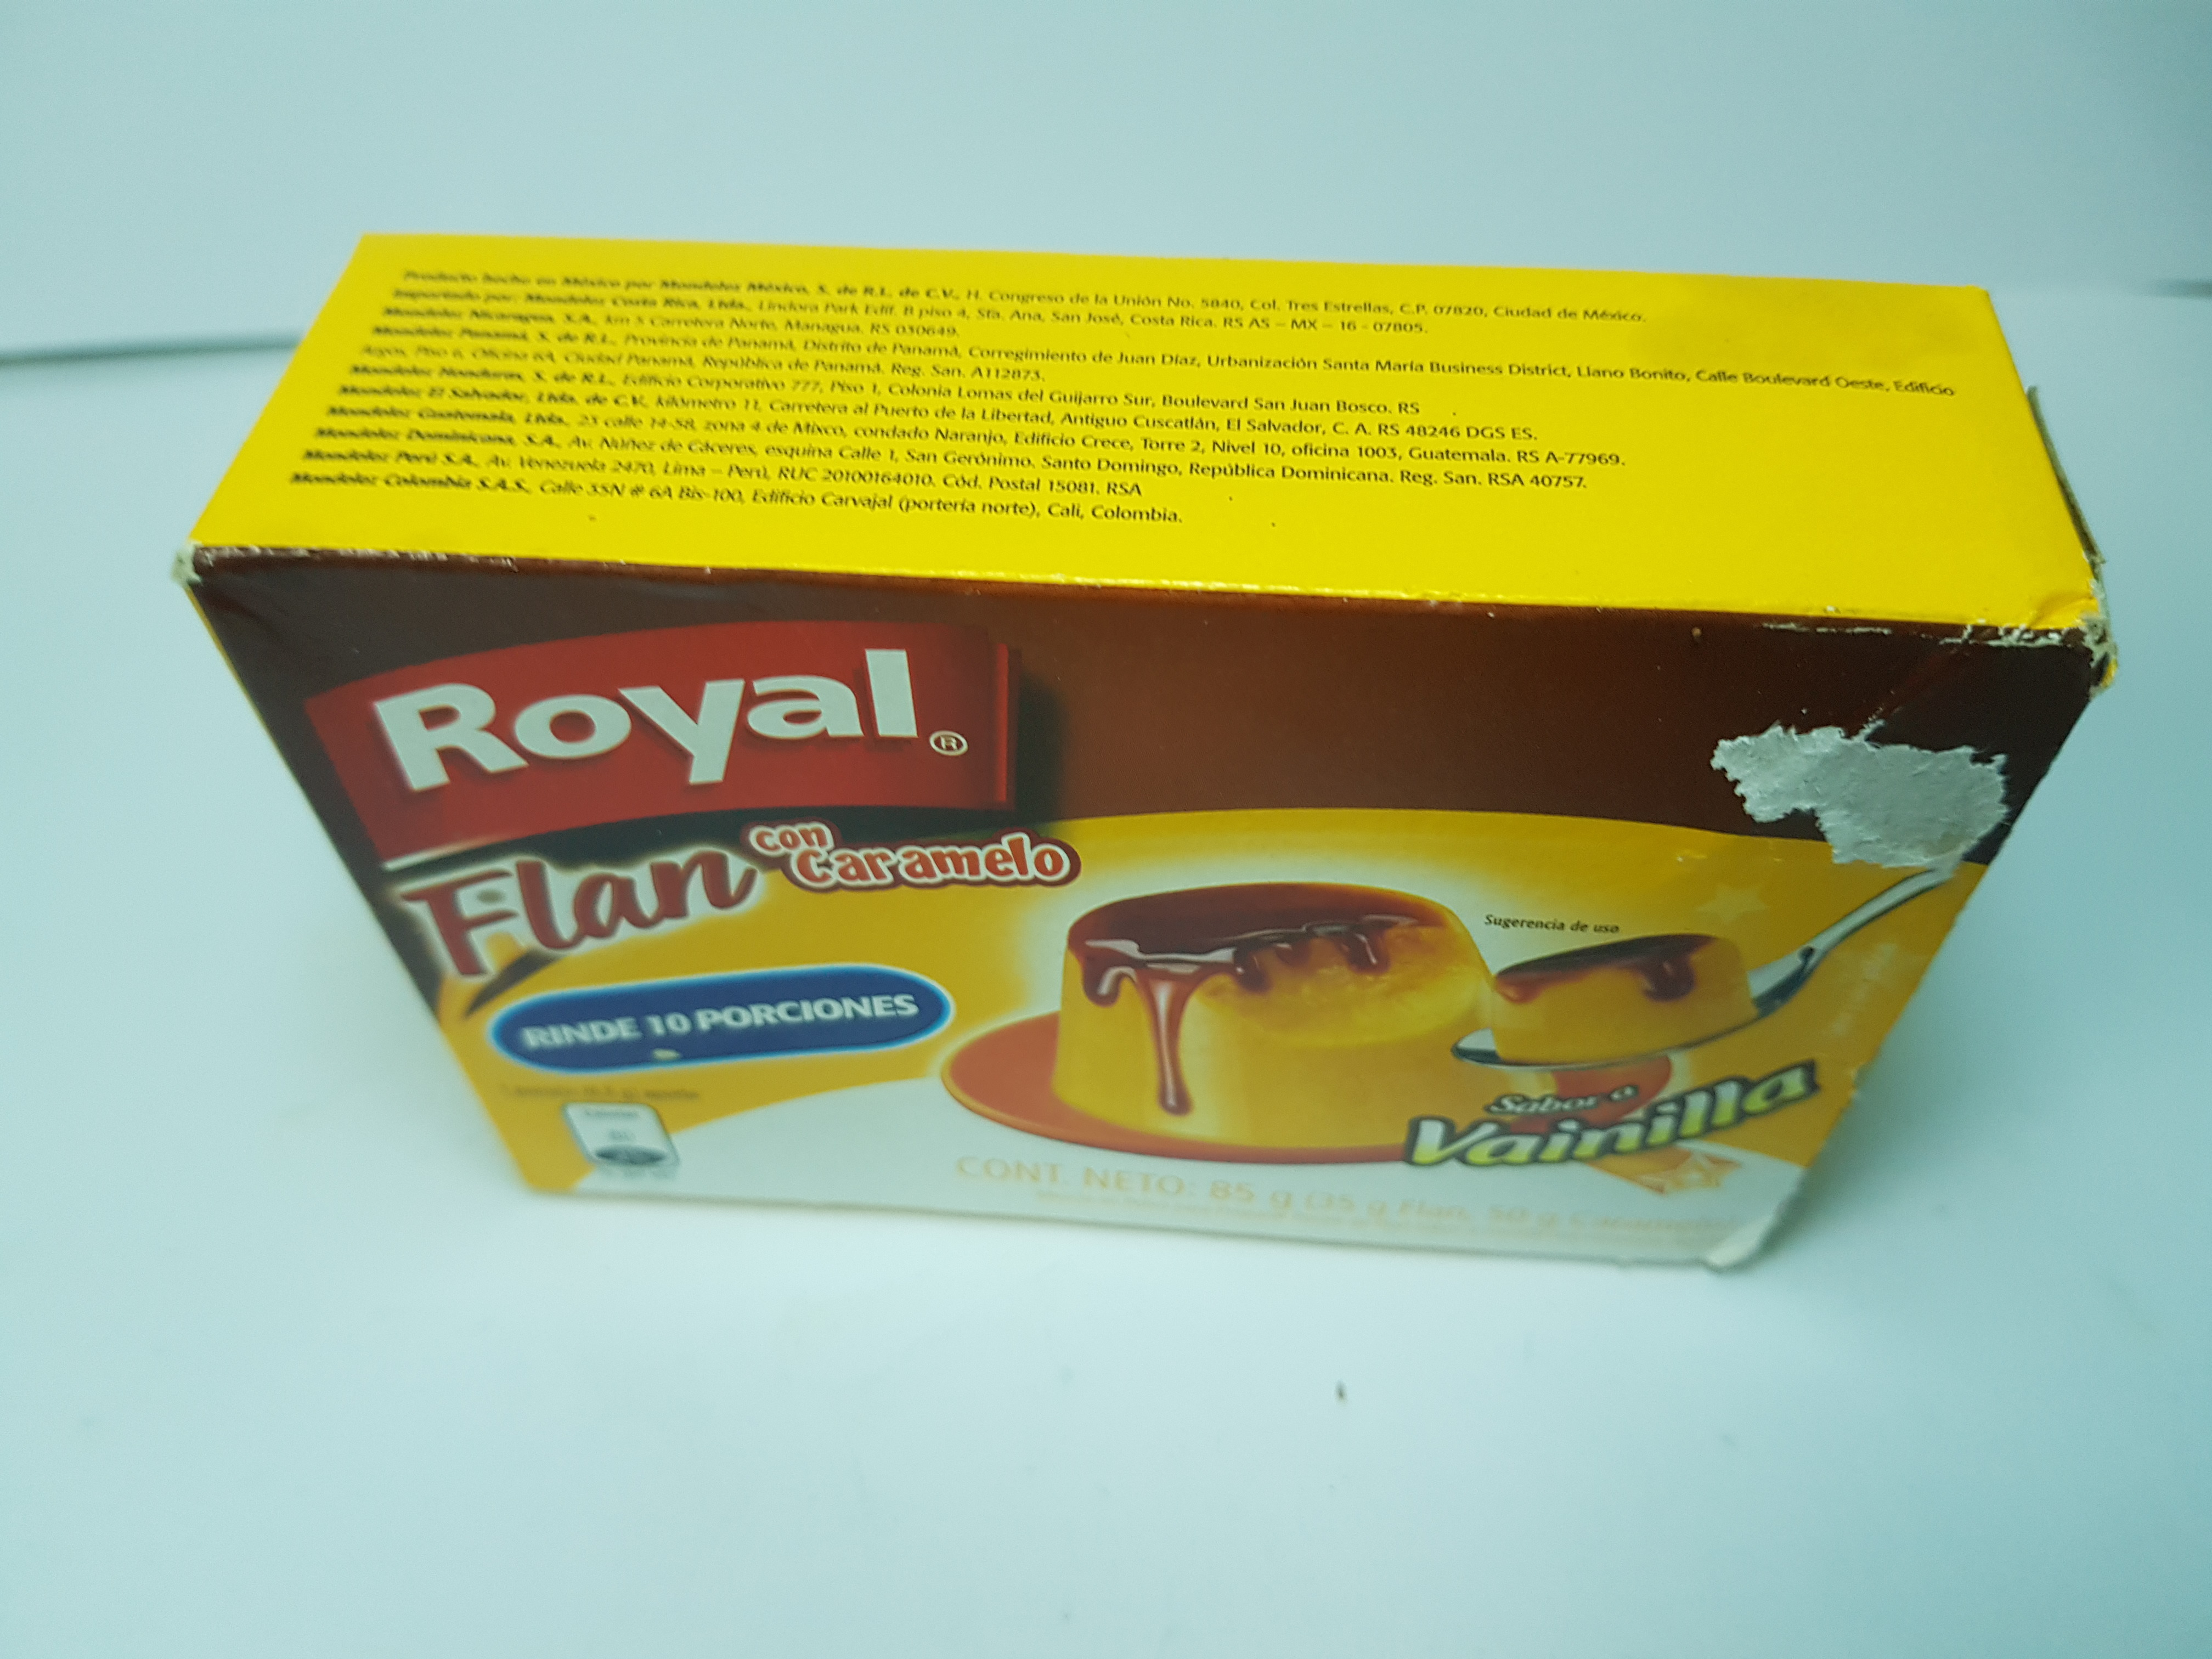flan: (174, 193, 2107, 1267)
